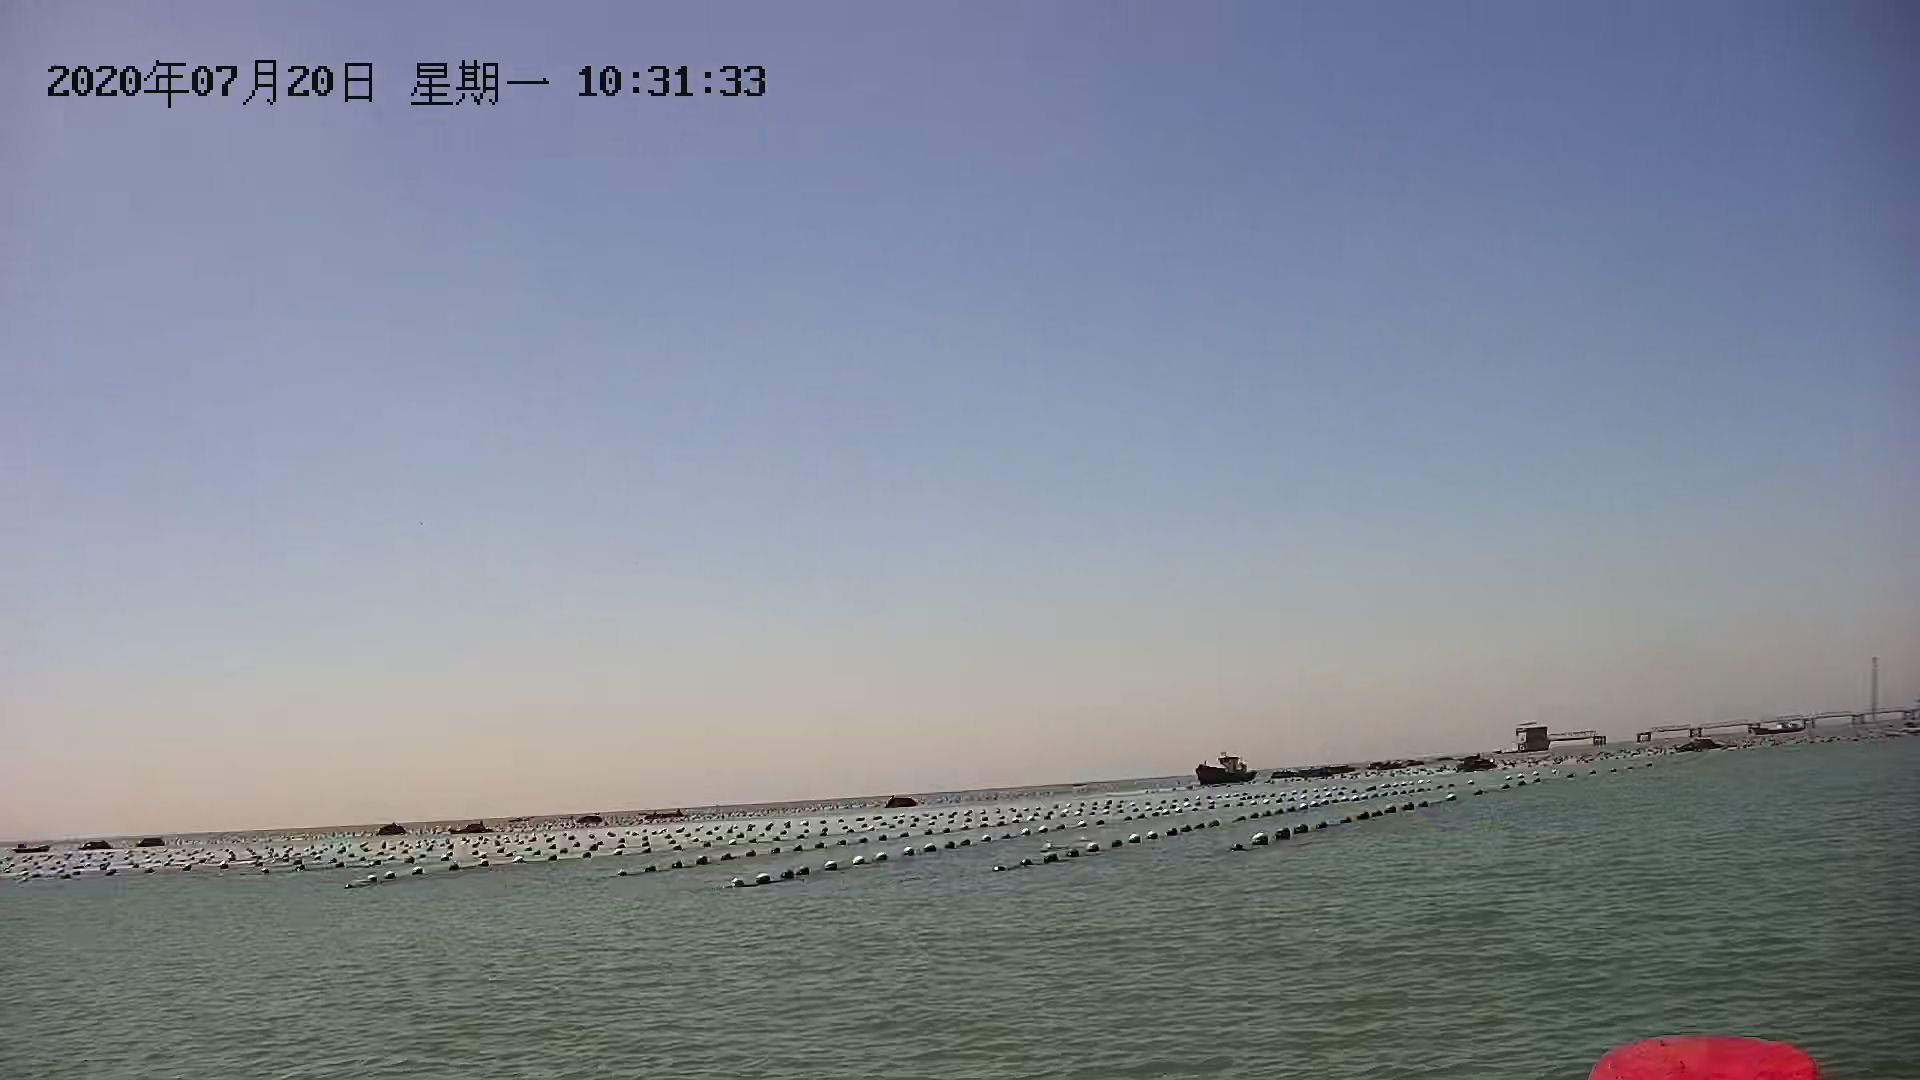harbor: (1491, 691, 1920, 756)
mast: (1865, 654, 1887, 736)
rubbish: (1443, 749, 1501, 775), (1668, 735, 1730, 756), (874, 794, 918, 810)
ship: (1182, 742, 1262, 789)
